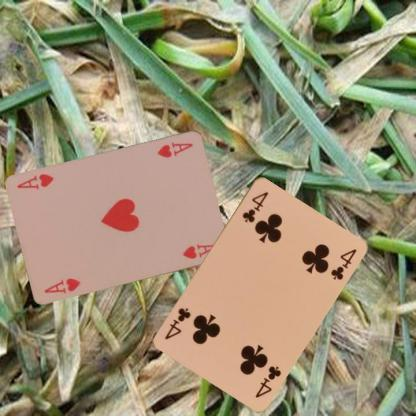4c: (239, 188, 270, 224), (252, 363, 282, 399)
Ah: (42, 275, 82, 295), (155, 139, 194, 159)
